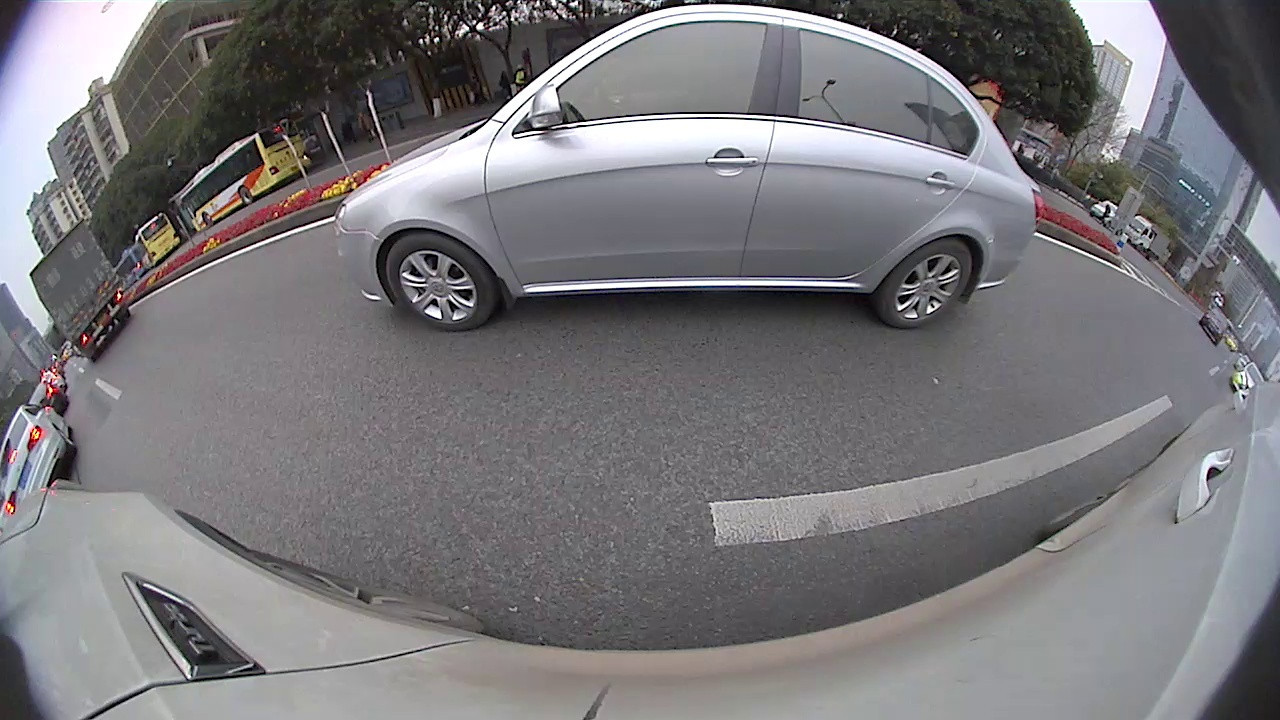bus: (176, 123, 307, 233), (128, 210, 186, 272)
car: (333, 3, 1043, 333), (2, 403, 78, 520), (1230, 360, 1270, 398), (30, 382, 71, 417), (1198, 306, 1233, 346)
front: (379, 228, 500, 330)
rear: (875, 234, 974, 332), (54, 426, 76, 452), (236, 185, 255, 207)
truck: (26, 216, 132, 366), (1122, 213, 1171, 264)
